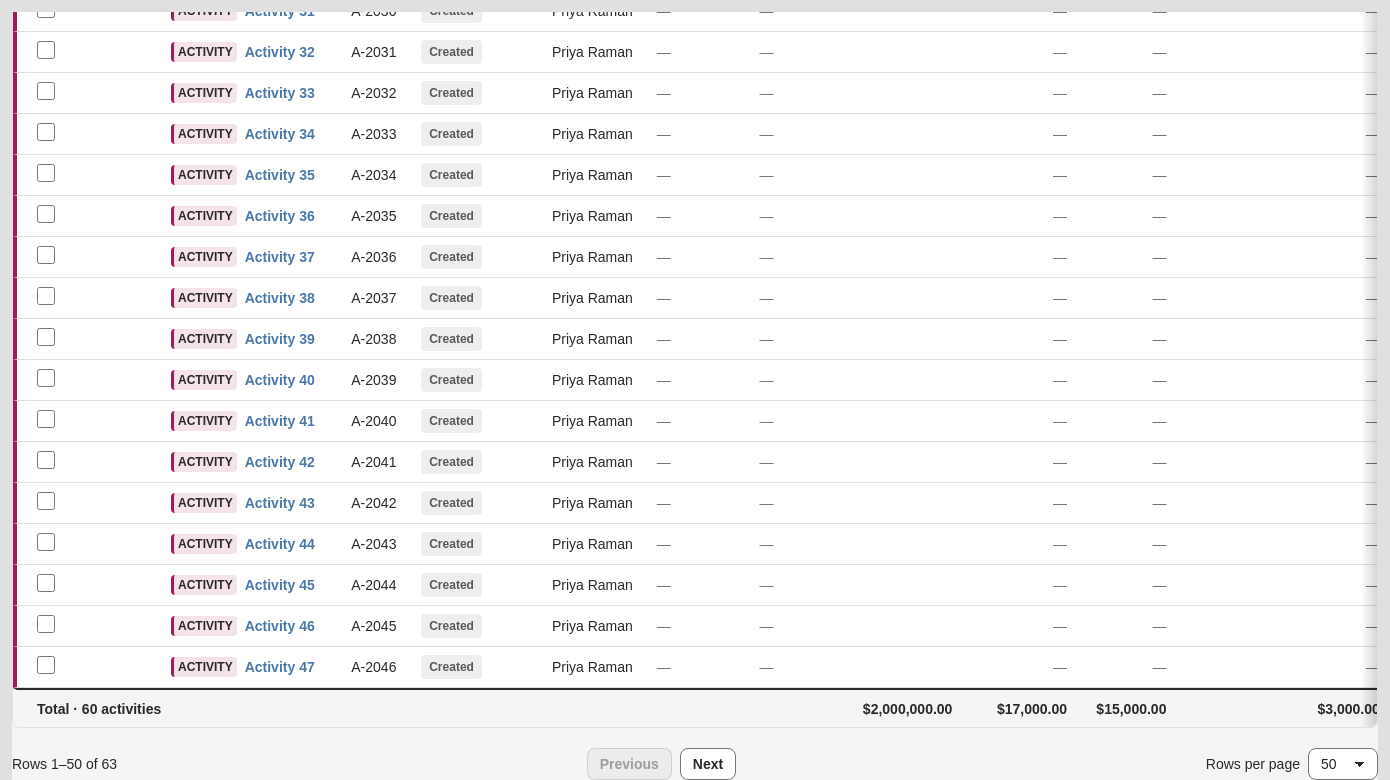
Scenario: AllWorkPage (US1) › shows the rows 50 to a page, with the totals row on every page (D-115)
Expected: the text "Rows 1–50 of 63" is shown, [12,754,117,774]
Click the button "Next" at point(708, 764), box [680,748,736,779]
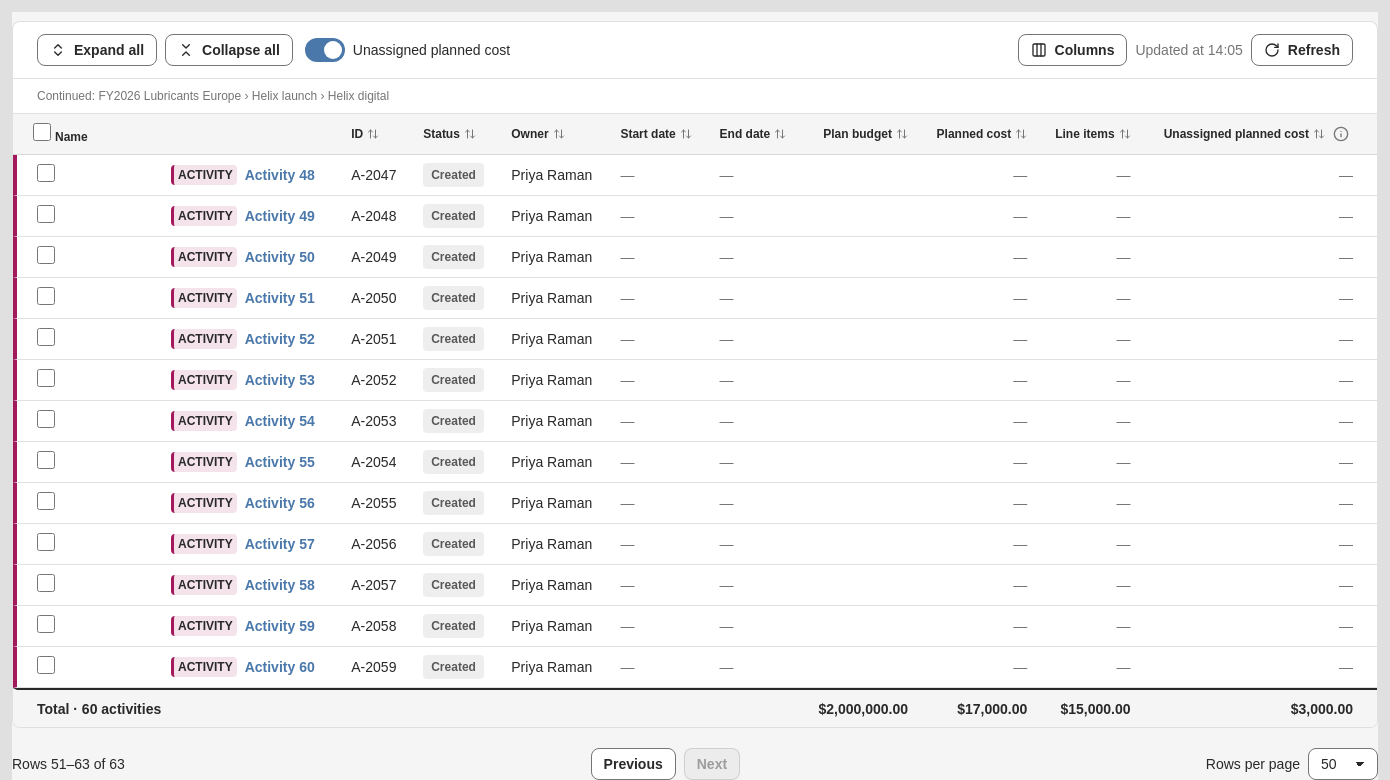
Now the text "Rows 51–63 of 63" is shown, box [12,754,125,774]
Now the text "Continued: FY2026 Lubricants Europe › Helix launch › Helix digital" is shown, box [13,79,1377,114]
Now the button "Next" is disabled, box [684,748,740,779]
Select "100" in the dropdown labelled "Rows per page" at point(1343, 764), box [1308,748,1378,779]
(page scrolled)
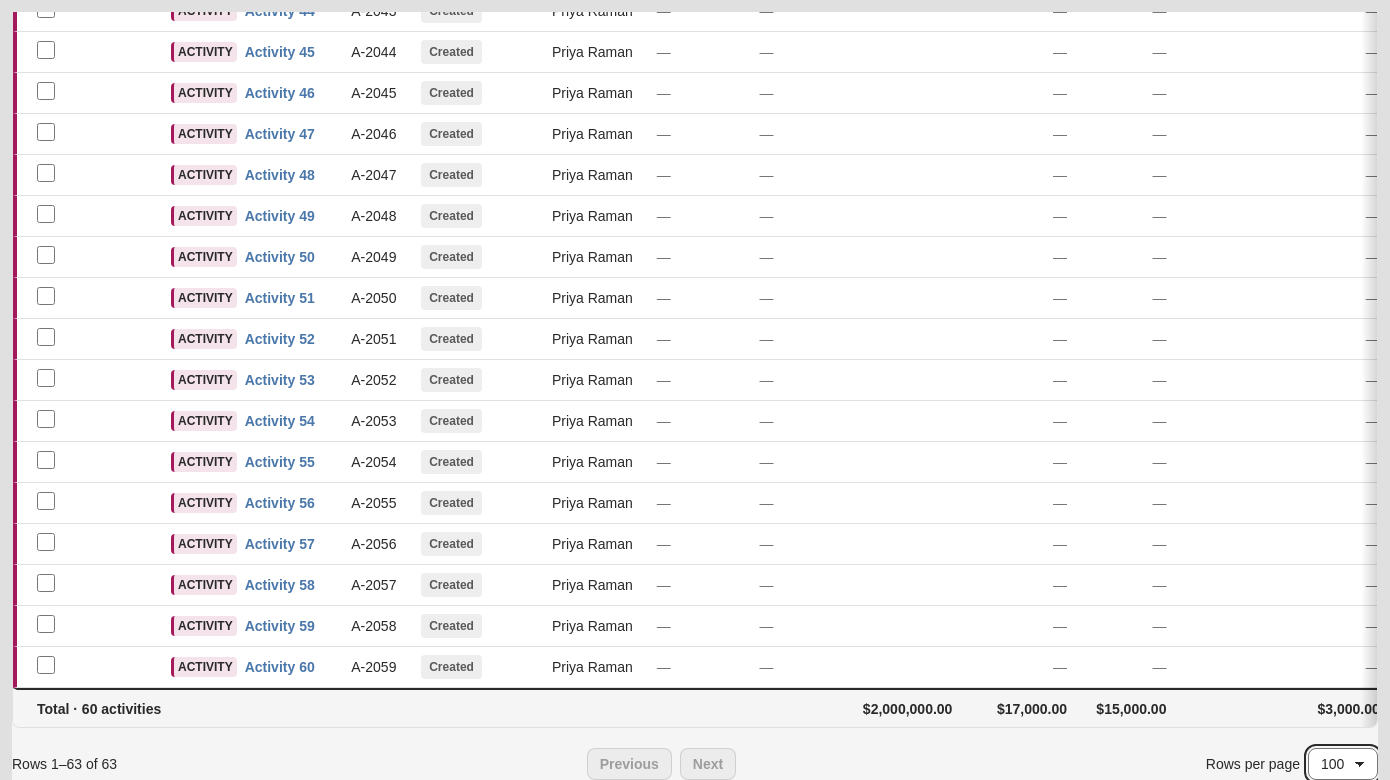
Now the text "Rows 1–63 of 63" is shown, box [12,754,117,774]
